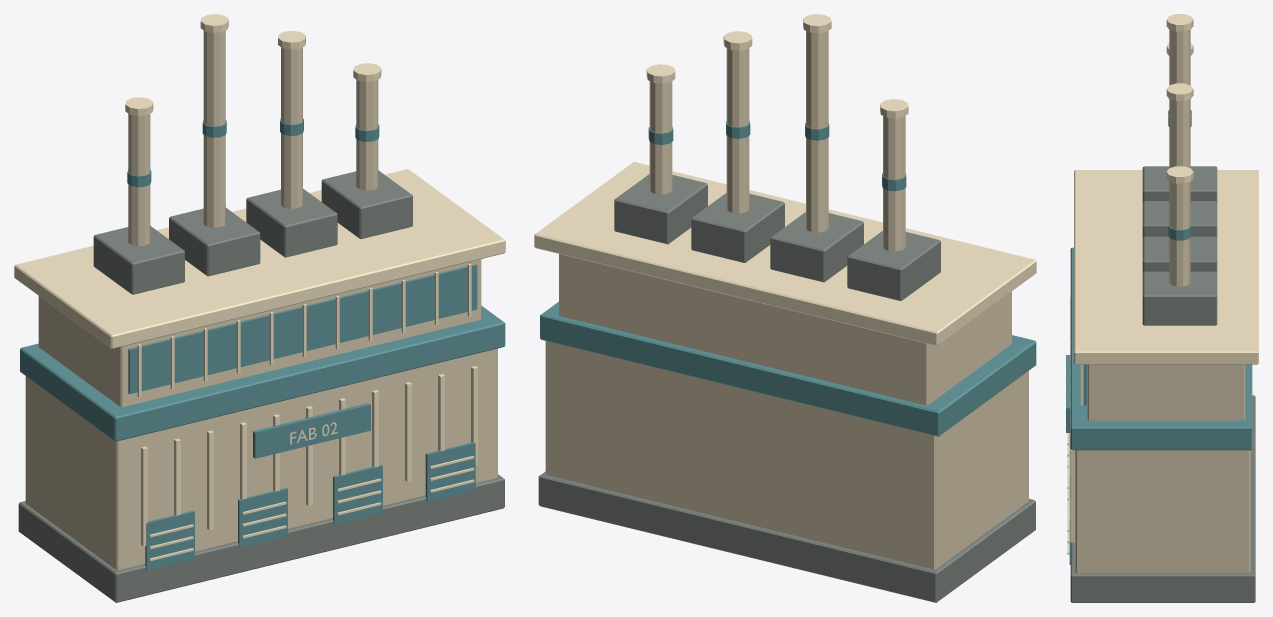
Rendered from hsinchu_wafer_fab_v2.glb.
The picture shows the model from 3 angles, left to right: view 1: azimuth 30°, elevation 25°; view 2: azimuth 150°, elevation 25°; view 3: azimuth 270°, elevation 25°; orthographic projection. The views are drawn at different scales.
Parts seen in each view (by area): view 1: hsinchu_wafer_fab_v2__hsinchu-warm-concrete, hsinchu_wafer_fab_v2__hsinchu-teal, hsinchu_wafer_fab_v2__hsinchu-pale-trim, hsinchu_wafer_fab_v2__hsinchu-machinery; view 2: hsinchu_wafer_fab_v2__hsinchu-warm-concrete, hsinchu_wafer_fab_v2__hsinchu-machinery, hsinchu_wafer_fab_v2__hsinchu-pale-trim, hsinchu_wafer_fab_v2__hsinchu-teal; view 3: hsinchu_wafer_fab_v2__hsinchu-warm-concrete, hsinchu_wafer_fab_v2__hsinchu-pale-trim, hsinchu_wafer_fab_v2__hsinchu-machinery, hsinchu_wafer_fab_v2__hsinchu-teal.
Part boxes in pixels (x1,y1,x2,y2): hsinchu_wafer_fab_v2__hsinchu-warm-concrete: [25, 30, 497, 570]; hsinchu_wafer_fab_v2__hsinchu-teal: [20, 118, 505, 570]; hsinchu_wafer_fab_v2__hsinchu-pale-trim: [14, 14, 505, 561]; hsinchu_wafer_fab_v2__hsinchu-machinery: [18, 170, 504, 602]; hsinchu_wafer_fab_v2__hsinchu-warm-concrete: [545, 31, 1028, 569]; hsinchu_wafer_fab_v2__hsinchu-machinery: [538, 174, 1035, 602]; hsinchu_wafer_fab_v2__hsinchu-pale-trim: [534, 14, 1036, 345]; hsinchu_wafer_fab_v2__hsinchu-teal: [540, 120, 1036, 436]; hsinchu_wafer_fab_v2__hsinchu-warm-concrete: [1075, 29, 1250, 572]; hsinchu_wafer_fab_v2__hsinchu-pale-trim: [1067, 14, 1258, 554]; hsinchu_wafer_fab_v2__hsinchu-machinery: [1070, 166, 1255, 602]; hsinchu_wafer_fab_v2__hsinchu-teal: [1066, 110, 1252, 564].
Size of the model in its own units: 73.24 by 89.16 by 32.89.
